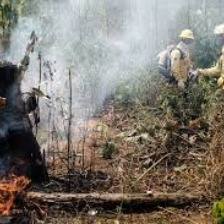incendio: (41, 85, 118, 171), (61, 45, 98, 100)
pessoas: (157, 22, 204, 102)
